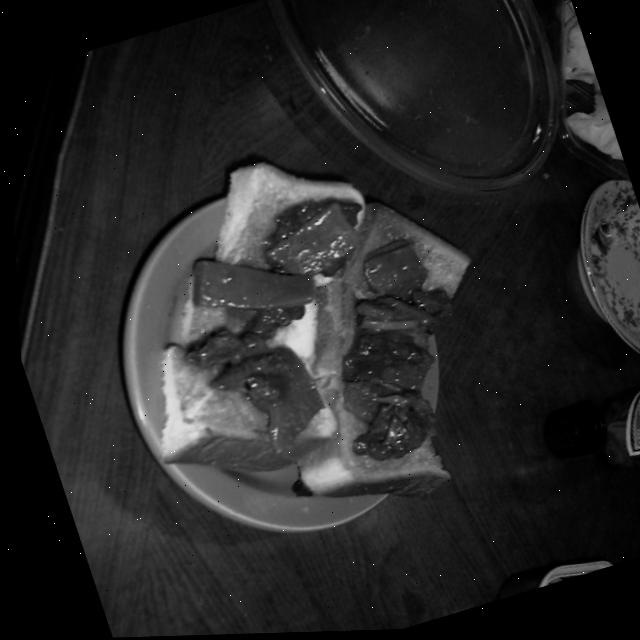面包点心: (96, 137, 523, 543)
